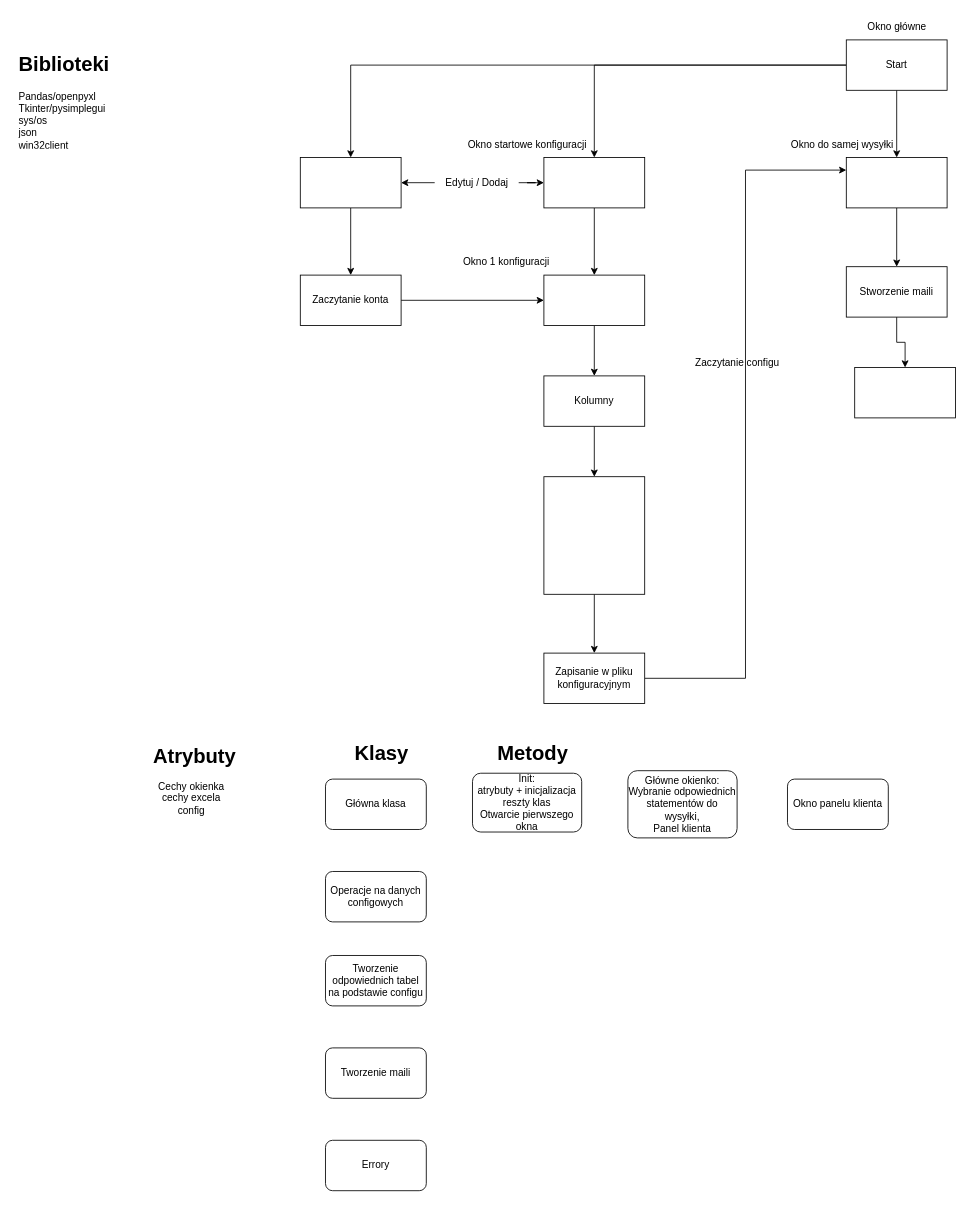
The diagram is 970 pixels wide and 1205 high, and some of its shapes have lost their labels. The shapes that lost their labels are listed below. From the top down, each one's centre as x and y in pixels, then its label:
the point at 350,182: Edycja statementów
the point at 594,182: Konfiguracja statementów/atrybutów
the point at 896,182: Wygenerowanie x statementów i ich zapisanie
the point at 594,300: Konto/CC
the point at 905,392: Wysłąnie
the point at 594,535: Dodatkowe opcje Blanki Tylko faktury Na konkretny Patment date Szczegóły maila
